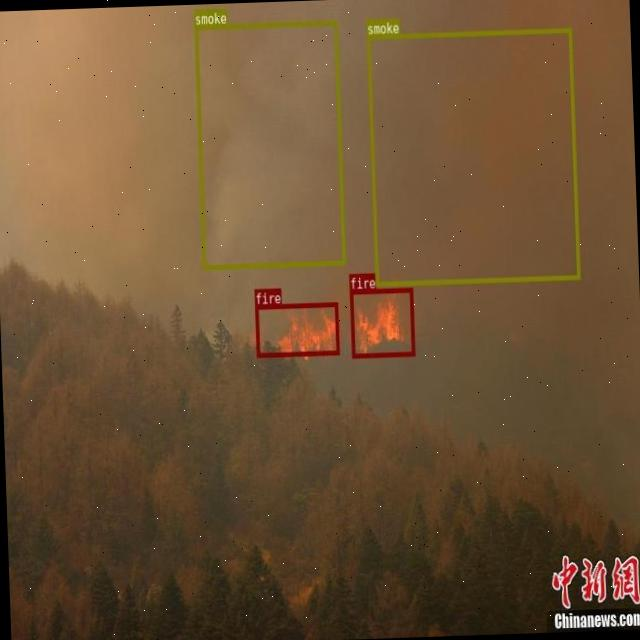fire: (254, 300, 340, 356), (349, 287, 414, 357)
smoke: (366, 27, 580, 285), (194, 20, 345, 269)
